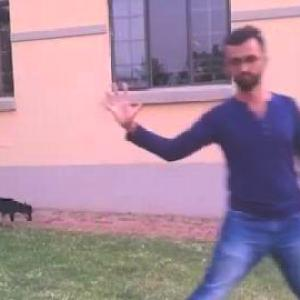follow_hand: (96, 78, 144, 129)
